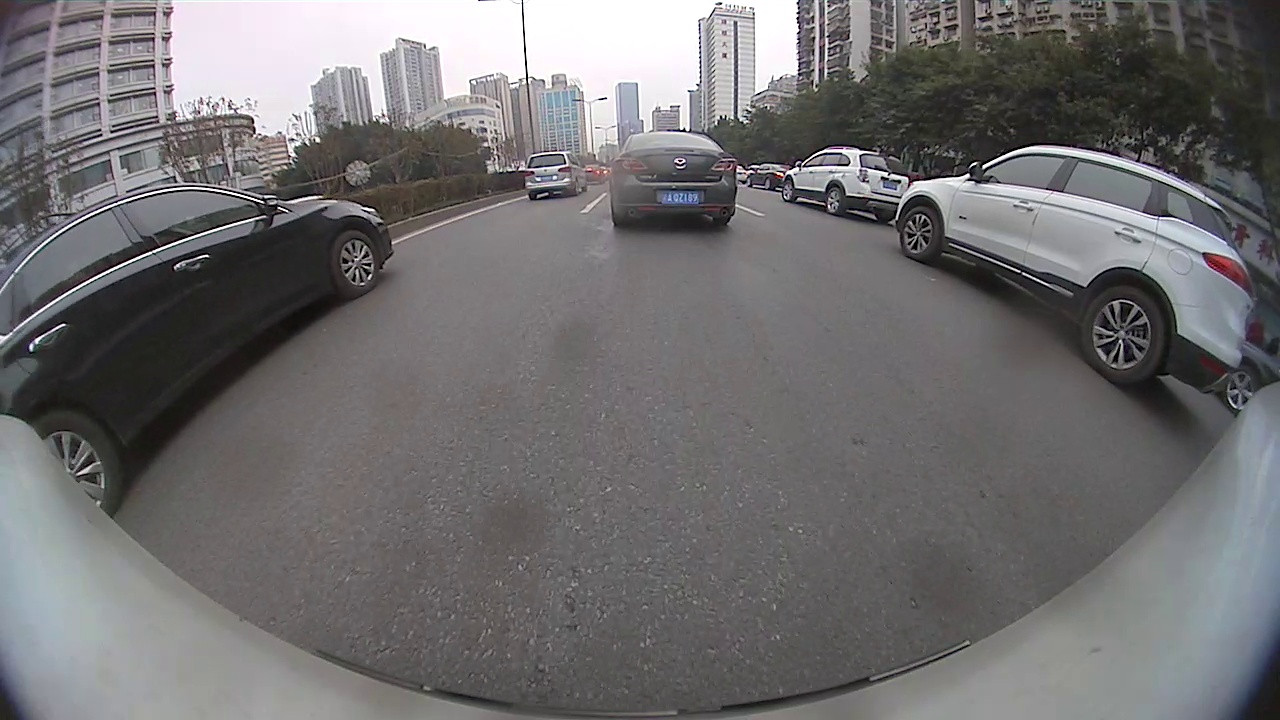car: (1, 180, 393, 517), (894, 141, 1253, 393), (609, 128, 737, 231), (781, 145, 912, 218), (1217, 346, 1278, 414), (521, 149, 582, 200), (745, 163, 791, 192), (579, 163, 603, 187), (727, 163, 749, 184)
front: (330, 228, 378, 295), (900, 204, 943, 264), (1224, 365, 1261, 414), (779, 181, 796, 203)
rear: (29, 410, 123, 514), (1083, 288, 1170, 385), (824, 185, 844, 214)
